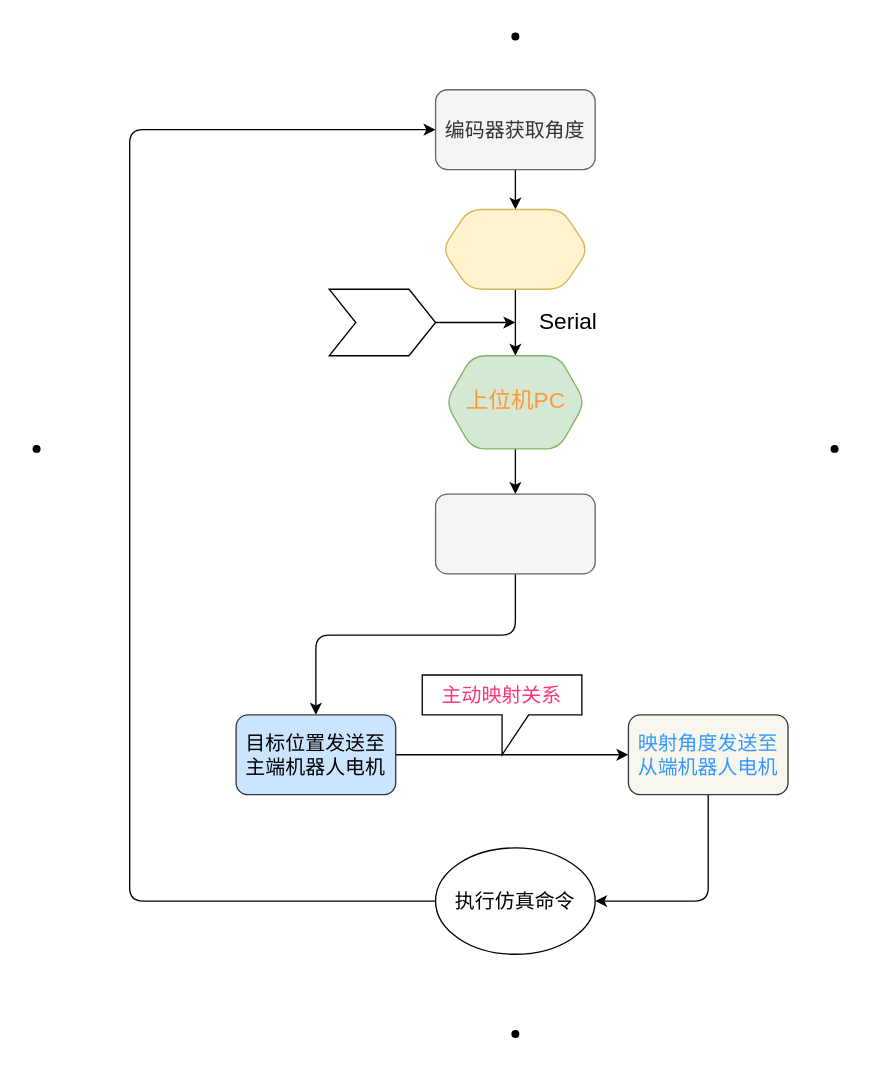
Some shapes in this 871 by 1071 pixel diagram are drawn without their labels. Each missing label, with the centre of its shape:
"KF" goes at (382,322).
"下位机Arduino" goes at (515,248).
"译码+单位变换" goes at (514,533).
